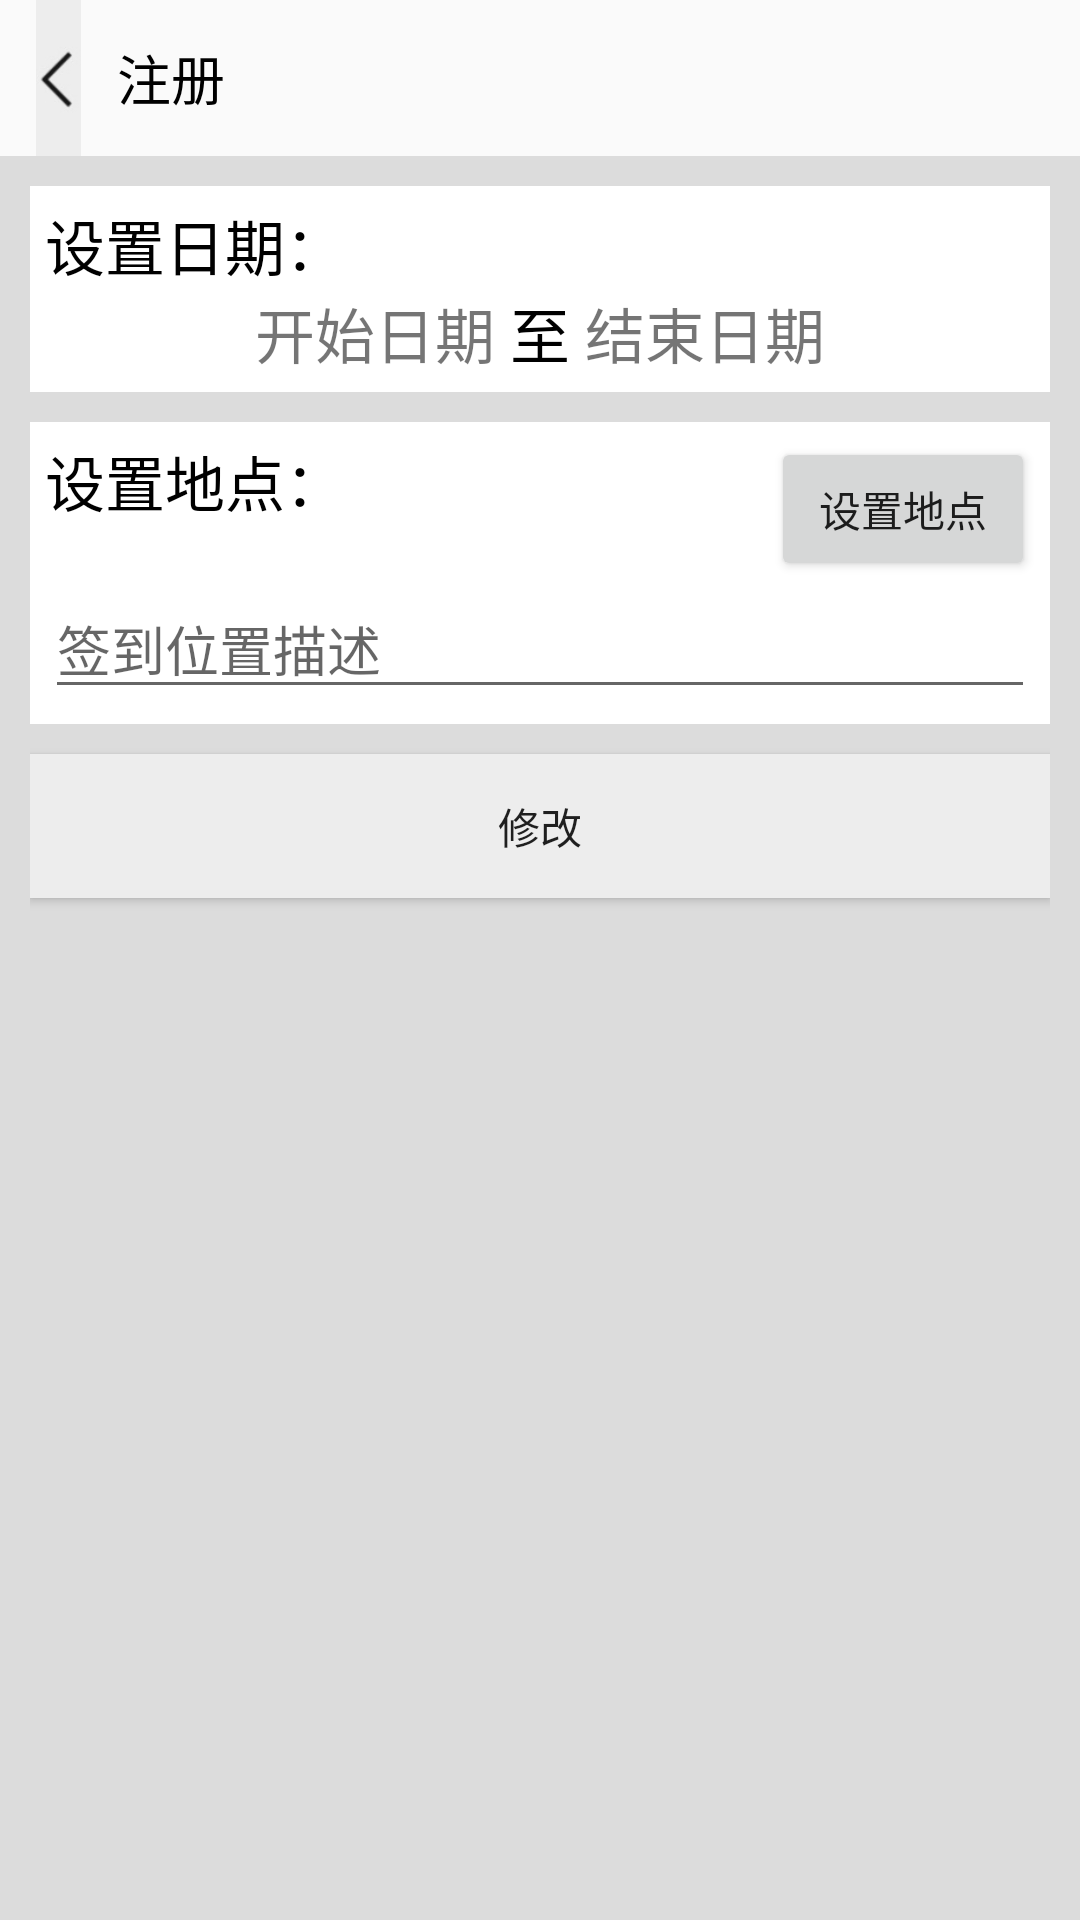

Screen size 1080px×1920px. Icon name, then its box in pixels as [x1, y1, x2, y2]:
backbutton: [36, 0, 81, 156]
